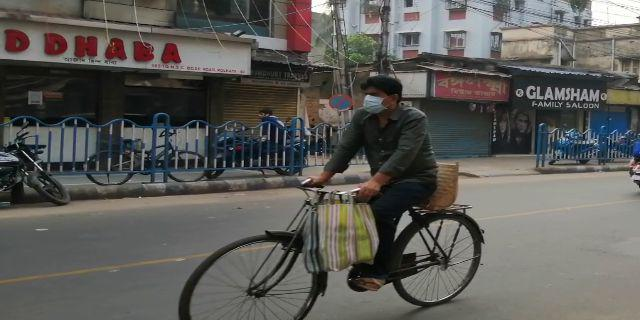Cycle: (176, 82, 494, 320)
